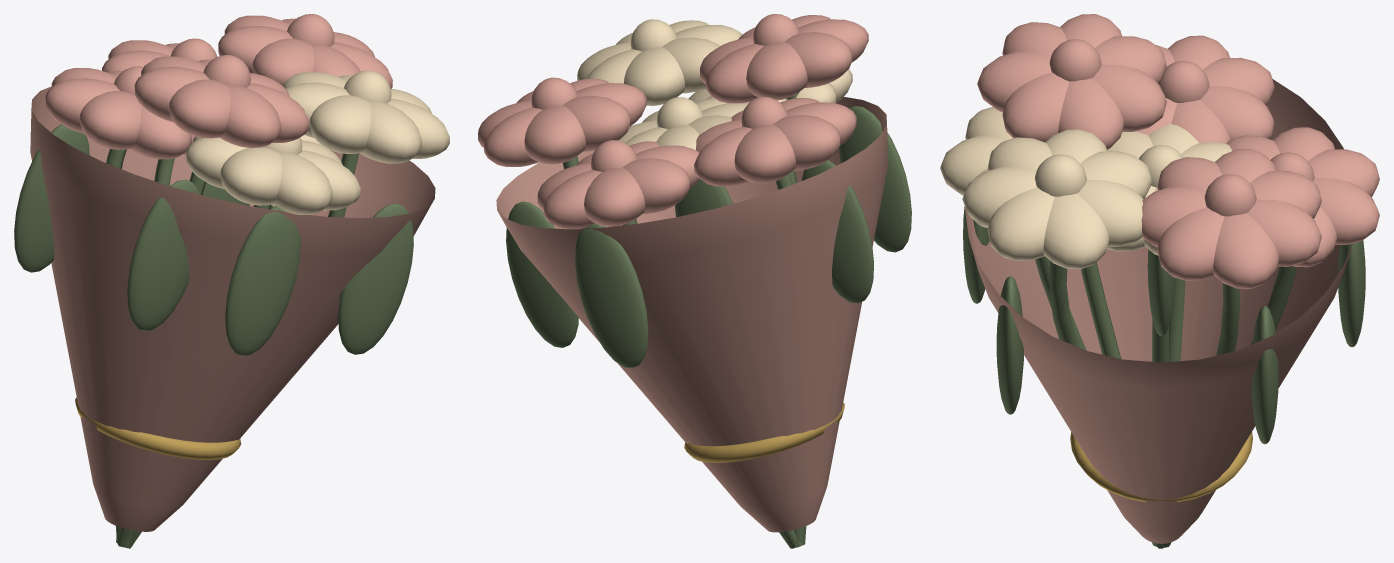
The model's file is flowers.glb.
3 views of the same model, side by side, from view 1: azimuth 30°, elevation 25°; view 2: azimuth 150°, elevation 25°; view 3: azimuth 270°, elevation 25° (orthographic). The views are drawn at different scales.
Parts seen in each view (by area): view 1: Bouquet wrap, Rose petals, Leaves, Cream petals, Antique brass; view 2: Bouquet wrap, Rose petals, Leaves, Cream petals, Antique brass; view 3: Rose petals, Bouquet wrap, Cream petals, Leaves, Antique brass.
Boxes of the visible parts, <box> form: Bouquet wrap: <box>30,86,435,531</box>; Rose petals: <box>45,14,392,159</box>; Leaves: <box>14,124,413,548</box>; Cream petals: <box>186,70,449,214</box>; Antique brass: <box>75,397,241,459</box>; Bouquet wrap: <box>496,97,887,532</box>; Rose petals: <box>478,14,868,229</box>; Leaves: <box>506,92,911,548</box>; Cream petals: <box>577,19,852,149</box>; Antique brass: <box>684,402,844,462</box>; Rose petals: <box>977,14,1379,288</box>; Bouquet wrap: <box>965,79,1352,543</box>; Cream petals: <box>940,107,1231,269</box>; Leaves: <box>963,206,1365,548</box>; Antique brass: <box>1070,432,1252,502</box>.
Size of the model in its own units: 0.4071 by 0.5111 by 0.38.
